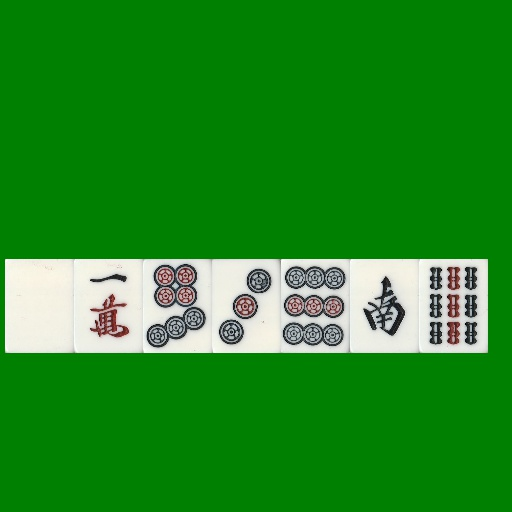1m: (74, 259, 143, 353)
3p: (212, 259, 281, 353)
7p: (143, 259, 212, 353)
9p: (281, 259, 350, 353)
9s: (419, 259, 488, 353)
south: (350, 259, 419, 353)
white: (5, 259, 74, 353)
